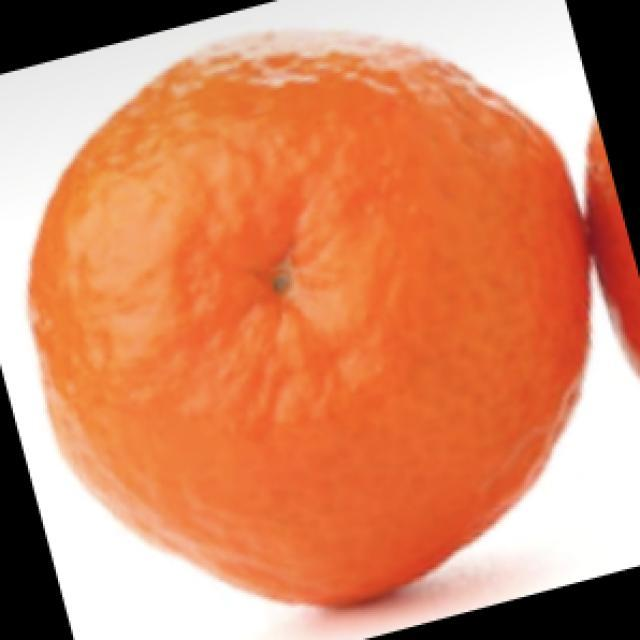matang: (29, 37, 588, 603)
